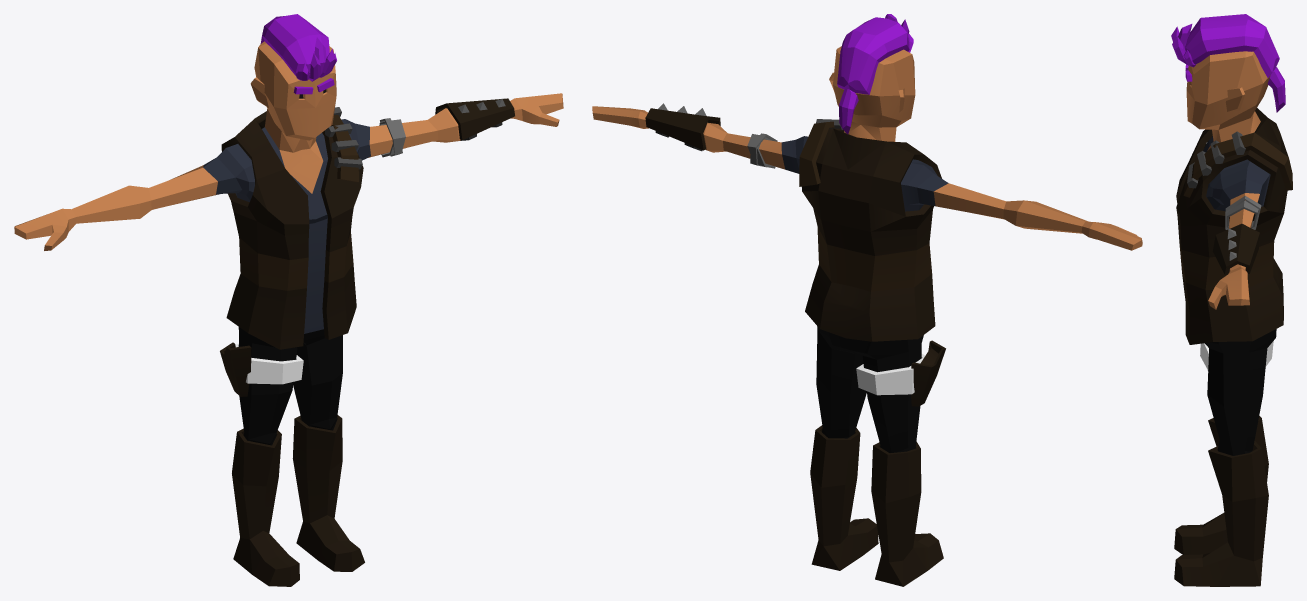
File: Character.FBX
The picture shows the model from 3 angles, left to right: view 1: azimuth 30°, elevation 25°; view 2: azimuth 150°, elevation 25°; view 3: azimuth 270°, elevation 25°; orthographic projection.
Visible parts, largest first — view 1: BaseMesh002; view 2: BaseMesh002; view 3: BaseMesh002.
Part boxes in pixels (x1,y1,x2,y2): BaseMesh002: (14,14,563,586); BaseMesh002: (592,14,1142,586); BaseMesh002: (1171,14,1292,586).
Bounding box in the file's own units: 95.97 × 89.87 × 18.21.
